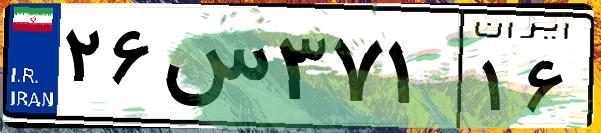1: (385, 28, 445, 110), (475, 38, 525, 113)
2: (57, 26, 110, 100)
3: (270, 28, 330, 110)
6: (525, 38, 570, 115), (110, 28, 158, 98)
7: (330, 28, 385, 110)
س: (158, 20, 270, 120)
